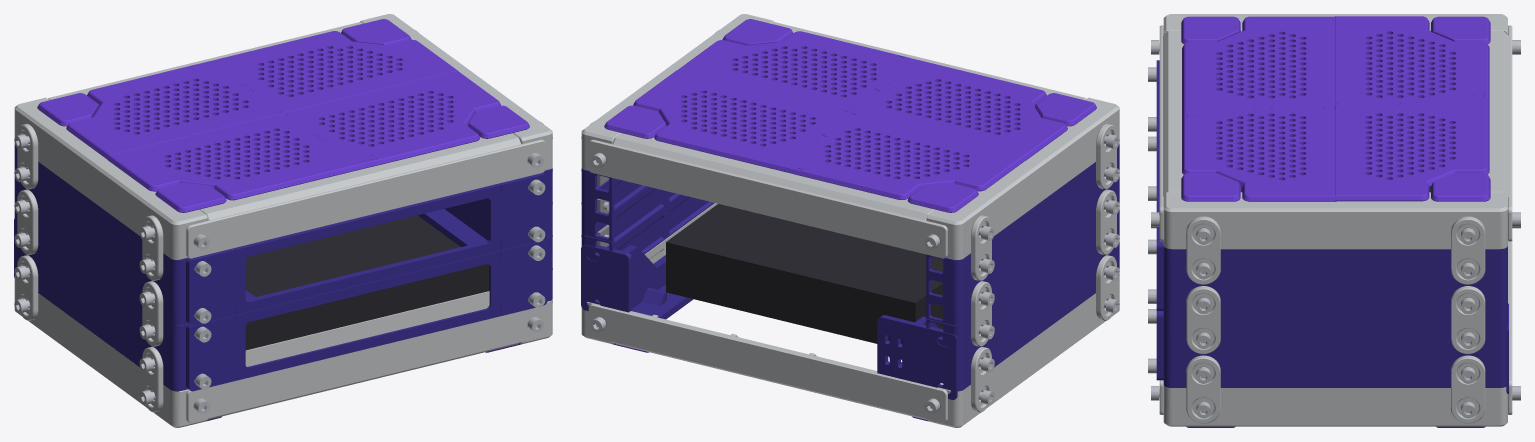
File: mini-rack.glb
3 renders of one model, left to right at view 1: azimuth 30°, elevation 25°; view 2: azimuth 150°, elevation 25°; view 3: azimuth 270°, elevation 25°, orthographic. The views are drawn at different scales.
Visible parts, largest first — view 1: vented_top_covers, cross_panels, elitedesk_705_g4_mini, side_walls, upper_bay_panel, elitedesk_1u_bracket, top_rails, side_connectors, corner_caps, bottom_rails, screws_cage_nuts; view 2: vented_top_covers, cross_panels, side_walls, elitedesk_705_g4_mini, top_rails, rear_supports, side_connectors, bottom_rails, corner_caps, screws_cage_nuts; view 3: vented_top_covers, side_walls, top_rails, bottom_rails, side_connectors, cross_panels, corner_caps, screws_cage_nuts, upper_bay_panel, elitedesk_1u_bracket.
Boxes of the visible parts, box(x1,y1,x2,y2) form: vented_top_covers: box(66, 31, 500, 200); cross_panels: box(48, 22, 545, 422); elitedesk_705_g4_mini: box(245, 215, 489, 366); side_walls: box(14, 144, 552, 391); upper_bay_panel: box(186, 173, 547, 325); elitedesk_1u_bracket: box(186, 240, 547, 391); top_rails: box(14, 14, 552, 259); side_connectors: box(17, 30, 543, 412); corner_caps: box(37, 19, 529, 212); bottom_rails: box(14, 276, 552, 427); screws_cage_nuts: box(14, 134, 552, 414); vented_top_covers: box(633, 31, 1067, 199); cross_panels: box(588, 22, 1085, 422); side_walls: box(581, 144, 1119, 391); elitedesk_705_g4_mini: box(666, 204, 943, 344); top_rails: box(581, 14, 1119, 259); rear_supports: box(581, 244, 957, 399); side_connectors: box(590, 30, 1116, 412); bottom_rails: box(581, 203, 1119, 427); corner_caps: box(604, 19, 1096, 212); screws_cage_nuts: box(581, 134, 1119, 414); vented_top_covers: box(1182, 16, 1489, 201); side_walls: box(1163, 246, 1507, 387); top_rails: box(1163, 14, 1507, 249); bottom_rails: box(1163, 385, 1507, 426); side_connectors: box(1186, 216, 1485, 423); cross_panels: box(1159, 25, 1512, 414); corner_caps: box(1181, 16, 1490, 201); screws_cage_nuts: box(1148, 40, 1520, 418); upper_bay_panel: box(1156, 60, 1163, 310); elitedesk_1u_bracket: box(1156, 311, 1163, 380).
Size of the model in its own units: 288 by 150 by 216.
